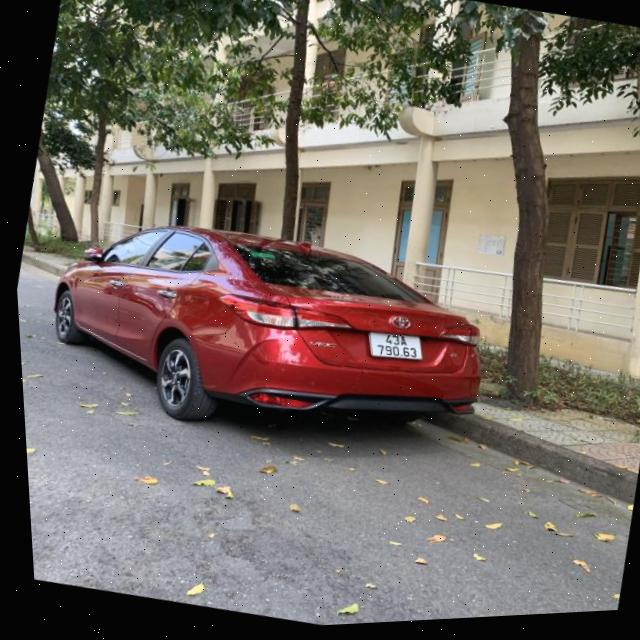car: (28, 182, 513, 492)
plate: (360, 319, 431, 370)
